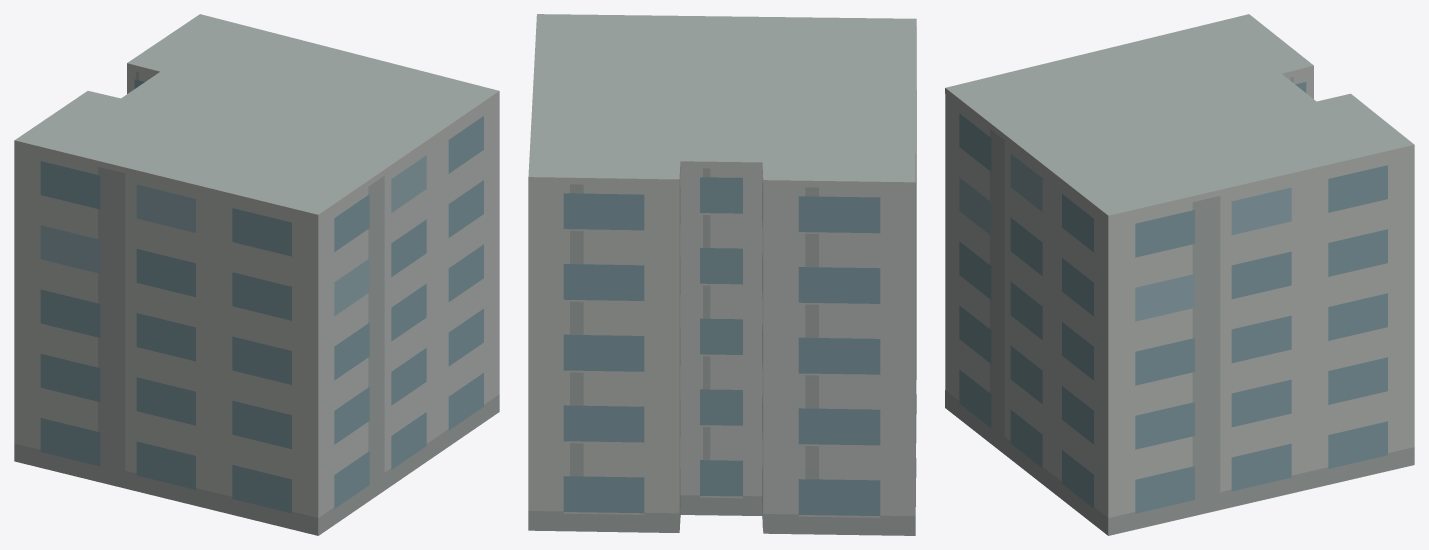
Rendered from survey-upis-32970663.glb.
The picture shows the model from 3 angles, left to right: view 1: azimuth 30°, elevation 25°; view 2: azimuth 150°, elevation 25°; view 3: azimuth 270°, elevation 25°; orthographic projection. The views are drawn at different scales.
Visible parts, largest first — view 1: survey-upis-32970663.tmp; view 2: survey-upis-32970663.tmp; view 3: survey-upis-32970663.tmp.
Boxes of the visible parts, x1,y1,x2,y2 form: survey-upis-32970663.tmp: (14,14,499,535); survey-upis-32970663.tmp: (528,14,916,535); survey-upis-32970663.tmp: (945,14,1414,535).
Size of the model in its own units: 17.57 by 13 by 17.28.
